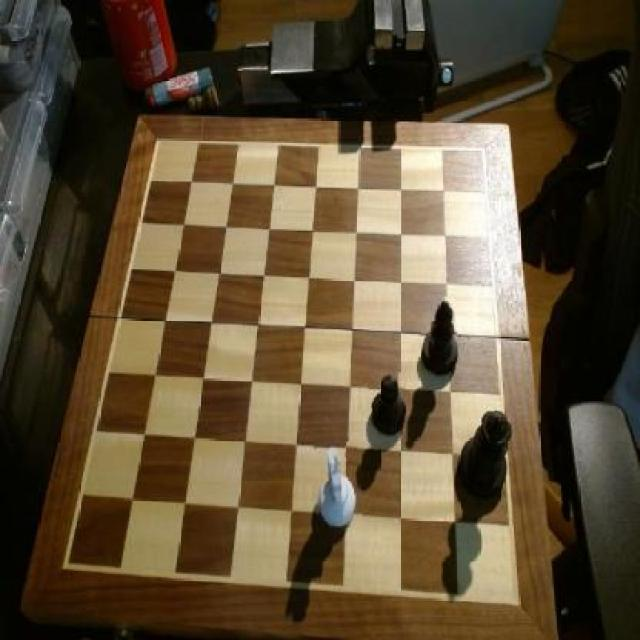bishop: (418, 297, 459, 381)
black-knight: (369, 374, 407, 441)
black-pawn: (459, 410, 513, 502)
white-king: (315, 443, 361, 530)
